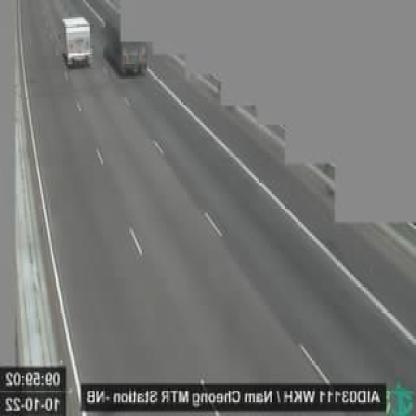Truck: (102, 15, 148, 75), (62, 14, 91, 68)
